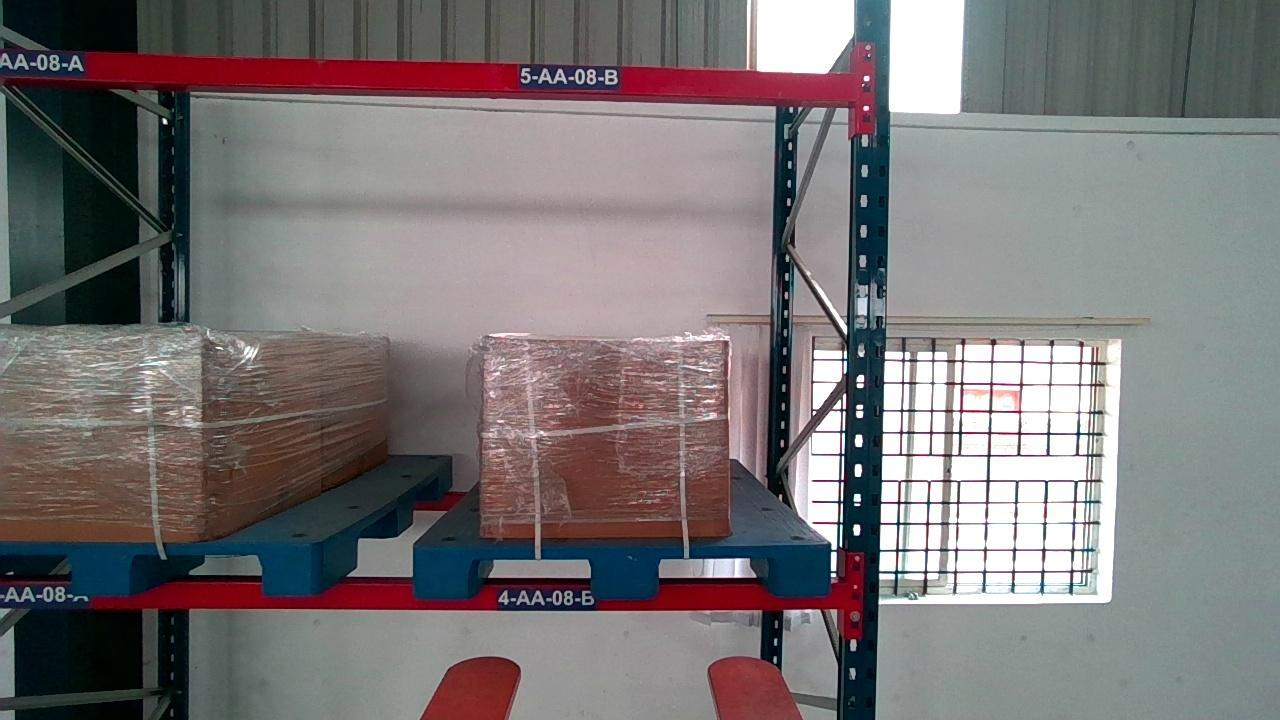h_rack: (2, 48, 853, 101), (7, 576, 855, 615)
small_pallet: (415, 543, 829, 595), (0, 541, 318, 594)
